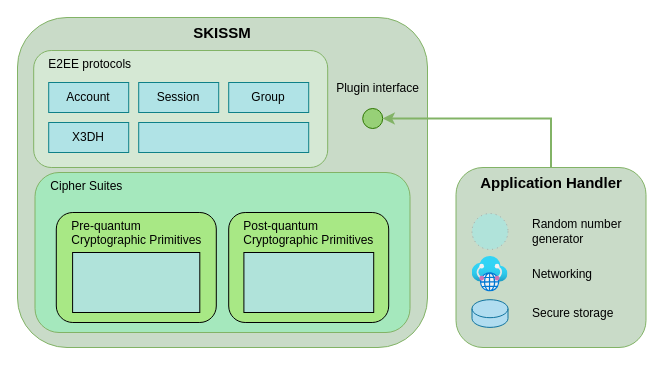
This 664x365 diagram has some shape labels left out. Each missing label, with the centre of its shape:
Double Ratchet: point 223,137
RNG: point 489,231
． ECDH-X25519 ． AES256-GCM ． SHA256: point 136,282
． NTRU Prime ． AES256-GCM ． SPHINCS+: point 308,282
